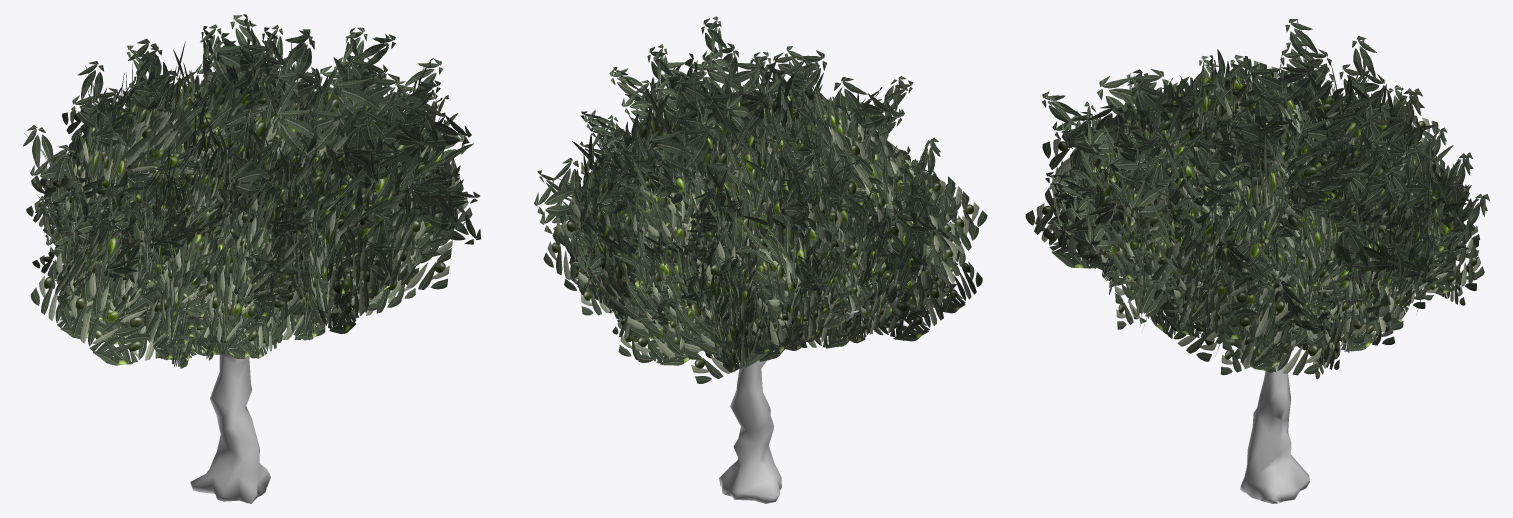
Rendered from Pine1.fbx.
The picture shows the model from 3 angles, left to right: view 1: azimuth 30°, elevation 25°; view 2: azimuth 150°, elevation 25°; view 3: azimuth 270°, elevation 25°; orthographic projection. The views are drawn at different scales.
Parts seen in each view (by area): view 1: Pine1; view 2: Pine1; view 3: Pine1.
Part boxes in pixels (x1,y1,x2,y2): Pine1: (22,14,480,503); Pine1: (534,16,987,503); Pine1: (1025,19,1489,503).
Bounding box in the file's own units: 31.16 × 30.93 × 30.5.
